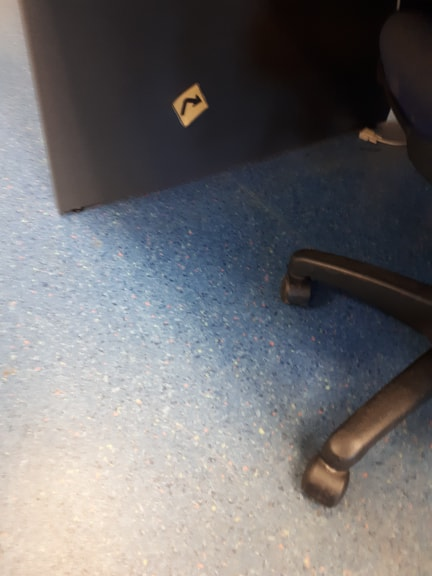right: (169, 83, 218, 129), (180, 94, 210, 107)
